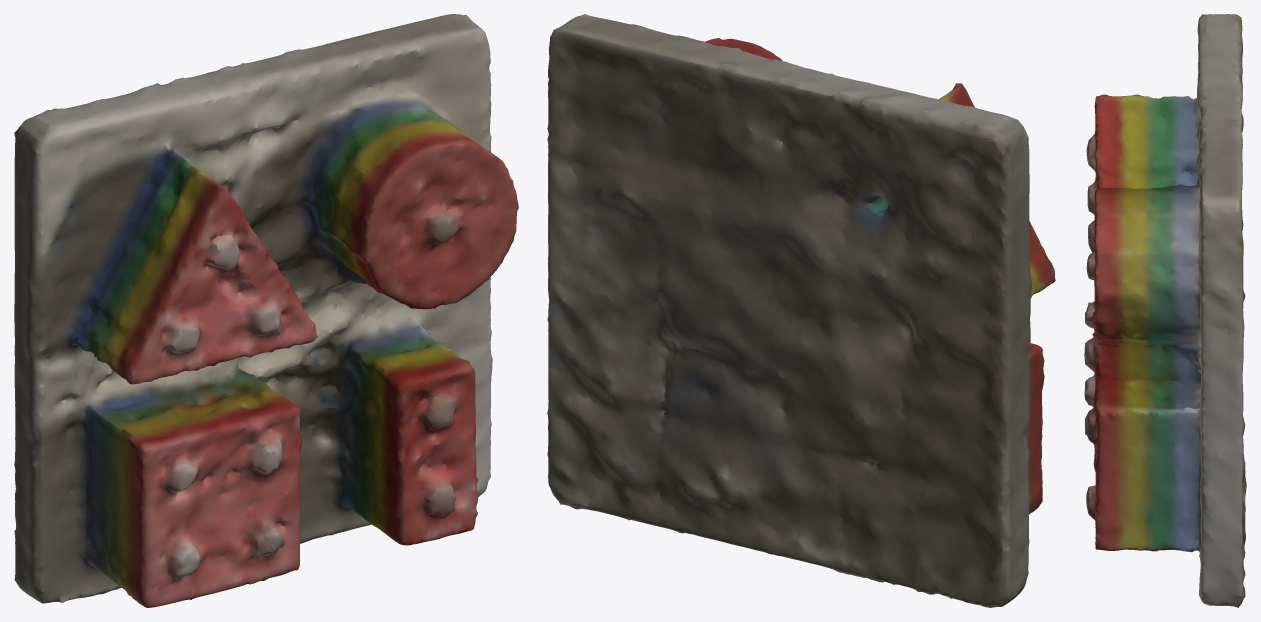
The model's file is sorting_board.glb.
The picture shows the model from 3 angles, left to right: view 1: azimuth 30°, elevation 25°; view 2: azimuth 150°, elevation 25°; view 3: azimuth 270°, elevation 25°; orthographic projection. The views are drawn at different scales.
Size of the model in its own units: 0.9947 by 0.984 by 0.3479.
